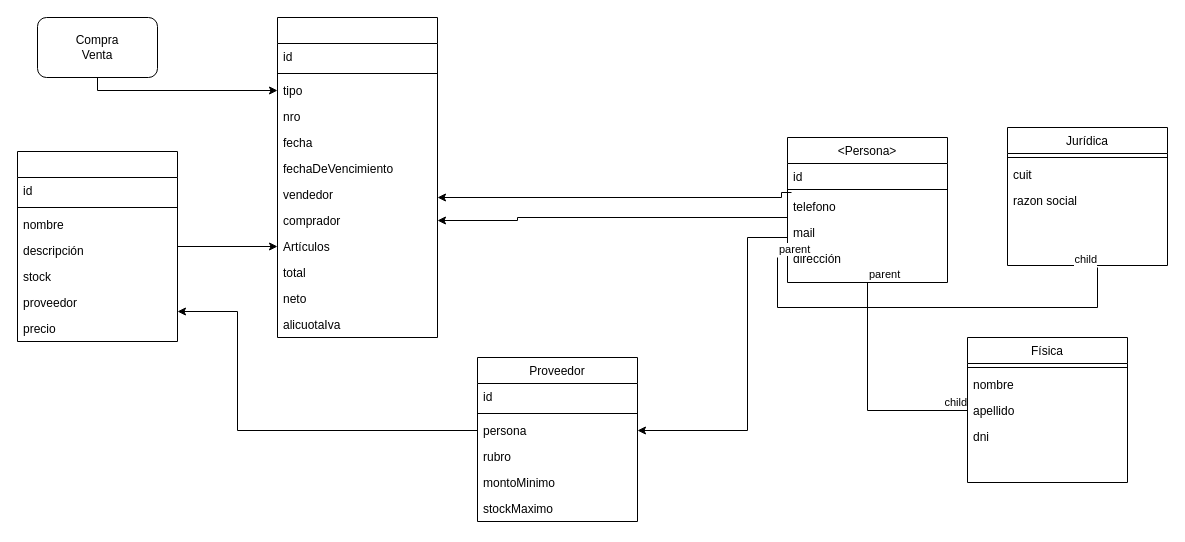
Some shapes in this 1185 by 542 pixel diagram are drawn without their labels. The shapes that lost their labels are listed below. From the top down, each one's box as (x1, y1, x2, y2) in pixels, then its label:
(276, 16, 438, 338): Factura
(16, 150, 178, 342): Artículo
